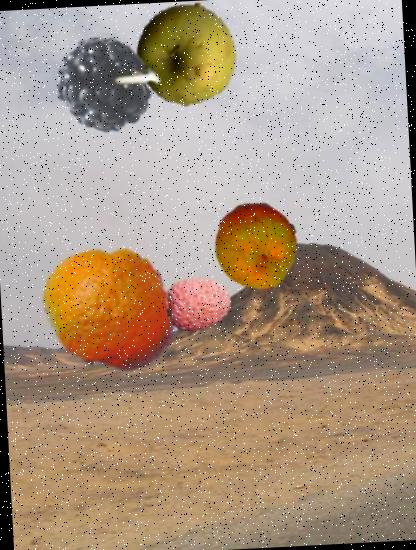Apple: (132, 0, 242, 109)
Lychee: (165, 269, 234, 338)
Mandarine: (37, 234, 184, 381), (210, 198, 306, 294)
Mulberry: (32, 25, 156, 150)
